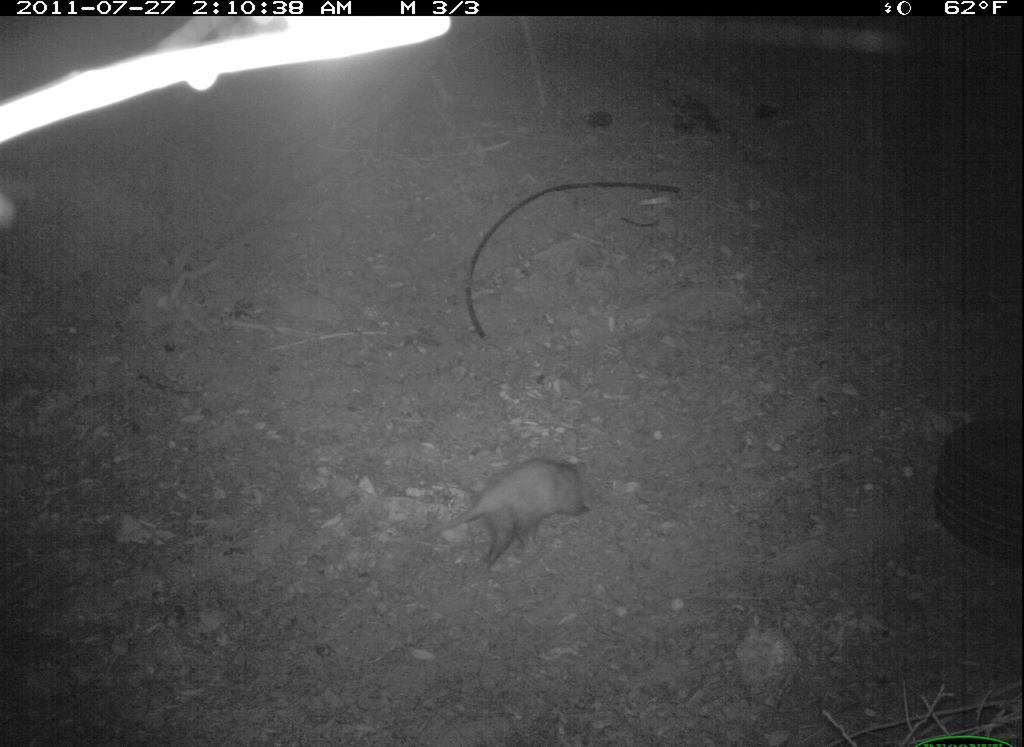opossum: (402, 451, 598, 584)
